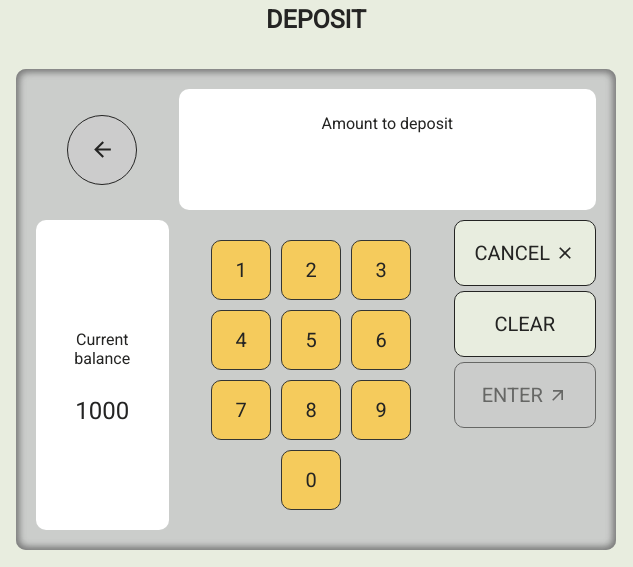
Test: Transaction Component › adds digits via keypad and enables ENTER
This screenshot has width=633, height=567.
Click the button "1" at (241, 270), box top-left (211, 240), bottom-right (271, 300)
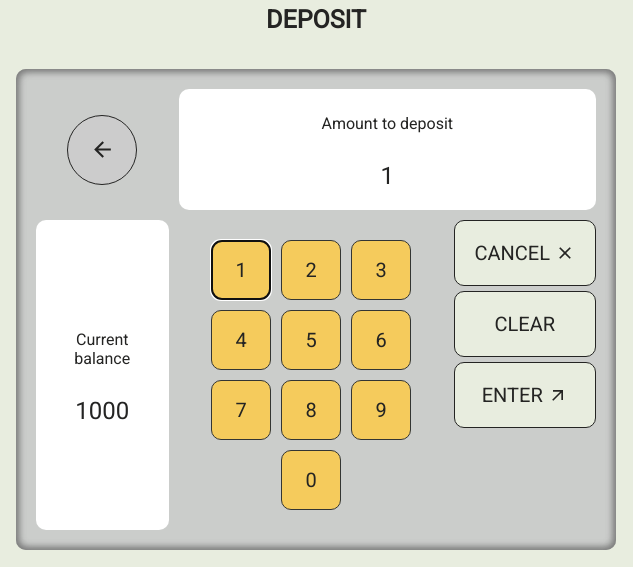
Click the button "2" at (311, 270), box top-left (281, 240), bottom-right (341, 300)
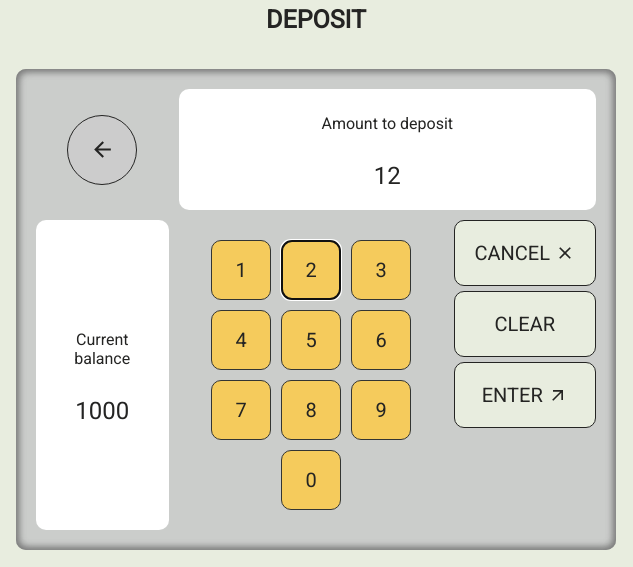
Click the button "3" at (381, 270), box top-left (351, 240), bottom-right (411, 300)
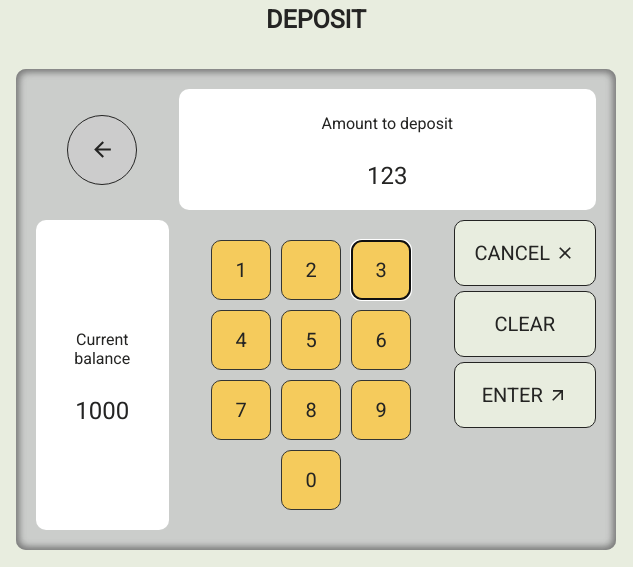
Expected: the text "ENTER" is enabled, top-left (482, 383), bottom-right (543, 407)
Now the text "123" is shown, box top-left (367, 162), bottom-right (408, 190)
